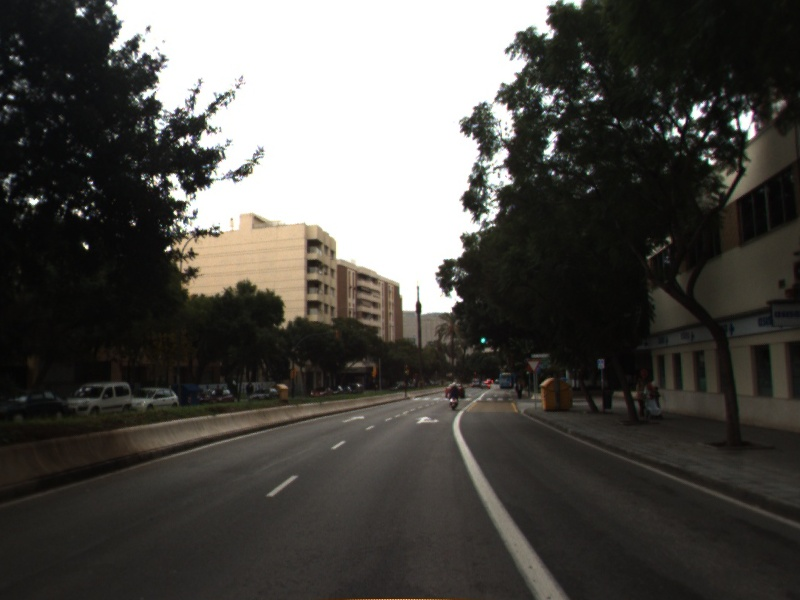STRAIGHT: (340, 413, 367, 425)
STRAIGHT_RIGHT: (413, 414, 441, 426)
